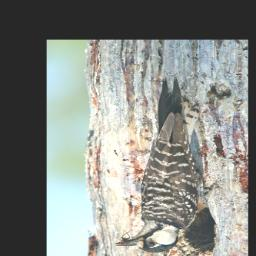Woodpecker: (114, 73, 222, 253)
